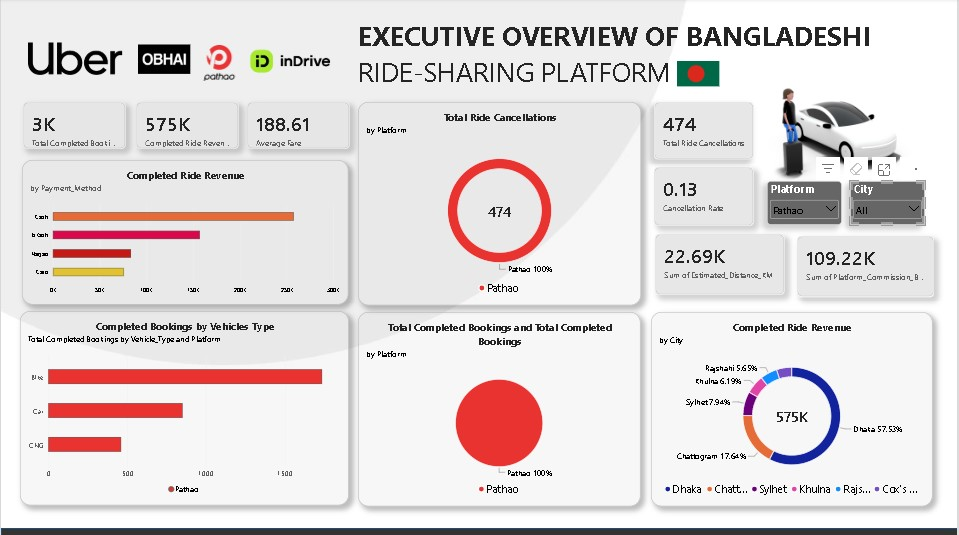

The dashboard page shown, as its layout file describes it:
{"tool":"powerbi","page":{"name":"Page 1","canvas":[1920,1080],"ordinal":0},"visuals":[{"type":"pieChart","fields":{"Category":["Rides.Platform","Calendar.Month_Name"],"Y":["KPI_Guide.Completed Bookings","KPI_Guide.Completed Bookings"]},"box":[717.5,630,566.7,390],"z":0},{"type":"donutChart","fields":{"Category":["City_Dim.City"],"Y":["KPI_Guide.Completed Ride Revenue"]},"box":[1305,630,565,390],"z":1000},{"type":"shape","box":[0,1063.3,1920,18],"z":2000},{"type":"clusteredBarChart","title":"Completed Bookings by Vehicles Type","fields":{"Category":["Rides.Vehicle_Type"],"Series":["Rides.Platform"],"Y":["KPI_Guide.Completed Bookings"]},"box":[37.5,627.5,660,390],"z":3000},{"type":"image","box":[1520,104,335,307.5],"z":4000},{"type":"image","box":[55,83.1,188.5,78.8],"z":5000},{"type":"cardVisual","fields":{"Data":["KPI_Guide.Completed Bookings"]},"box":[43.3,208.3,206.1,94.5],"z":6000,"group":"g1"},{"type":"barChart","fields":{"Category":["Rides.Payment_Method"],"Y":["KPI_Guide.Completed Ride Revenue"]},"box":[42.5,325,655,290],"z":6000},{"type":"image","box":[327.5,90,222.5,80],"z":7000},{"type":"cardVisual","fields":{"Data":["KPI_Guide.Completed Ride Revenue"]},"box":[269.8,208.3,206.1,94.5],"z":7000,"group":"g1"},{"type":"cardVisual","fields":{"Data":["KPI_Guide.Total Ride Cancellations"]},"box":[1311.7,208.3,200,115],"z":8000},{"type":"image","box":[455,70,250,112.5],"z":9000},{"type":"cardVisual","fields":{"Data":["KPI_Guide.Average Fare"]},"box":[492.2,208.8,206.1,94.5],"z":9000,"group":"g1"},{"type":"cardVisual","fields":{"Data":["Calendar.Cancellation Rate"]},"box":[1311.7,338.3,200,118.3],"z":10000},{"type":"cardVisual","fields":{"Data":["Sum(Rides.Estimated_Distance_KM)"]},"box":[1312,474,260,122],"z":11000},{"type":"image","box":[275,90,105,65],"z":12000},{"type":"cardVisual","fields":{"Data":["Sum(Rides.Platform_Commission_BDT)"]},"box":[1597,477.1,275,122.9],"z":13000},{"type":"donutChart","fields":{"Category":["Rides.Platform"],"Y":["KPI_Guide.Total Ride Cancellations"]},"box":[716.7,208.3,568.3,408.3],"z":14000},{"type":"textbox","box":[716.7,40,1156.7,146.7],"z":15000},{"type":"group","id":"g1","title":"Group 2","box":[43.3,208.3,655,95],"z":16000},{"type":"image","box":[1356.4,117.7,84.6,66.1],"z":17000},{"type":"slicer","fields":{"Values":["Rides.Platform"]},"box":[1537.5,367.5,150,87.5],"z":18000},{"type":"slicer","fields":{"Values":["City_Dim.City"]},"box":[1705,367.5,150,87.5],"z":19000}]}

Visuals, with their boxes in screenshot pixels (x1, y1, x2, y2), scaled from the page's 1920x1080 canvas onto the 959x535 screenshot:
pieChart - Rides.Platform x Calendar.Month_Name: region(358, 312, 641, 505)
donutChart - City_Dim.City x KPI_Guide.Completed Ride Revenue: region(652, 312, 934, 505)
shape: region(0, 527, 958, 534)
"Completed Bookings by Vehicles Type" clusteredBarChart: region(19, 311, 348, 504)
image: region(759, 52, 927, 204)
image: region(27, 41, 122, 80)
cardVisual - KPI_Guide.Completed Bookings: region(22, 103, 125, 150)
barChart - Rides.Payment_Method x KPI_Guide.Completed Ride Revenue: region(21, 161, 348, 305)
image: region(164, 45, 275, 84)
cardVisual - KPI_Guide.Completed Ride Revenue: region(135, 103, 238, 150)
cardVisual - KPI_Guide.Total Ride Cancellations: region(655, 103, 755, 160)
image: region(227, 35, 352, 90)
cardVisual - KPI_Guide.Average Fare: region(246, 103, 349, 150)
cardVisual - Calendar.Cancellation Rate: region(655, 168, 755, 226)
cardVisual - Sum(Rides.Estimated_Distance_KM): region(655, 235, 785, 295)
image: region(137, 45, 190, 77)
cardVisual - Sum(Rides.Platform_Commission_BDT): region(798, 236, 935, 297)
donutChart - Rides.Platform x KPI_Guide.Total Ride Cancellations: region(358, 103, 642, 305)
textbox: region(358, 20, 936, 92)
"Group 2" group: region(22, 103, 349, 150)
image: region(677, 58, 720, 91)
slicer - Rides.Platform: region(768, 182, 843, 225)
slicer - City_Dim.City: region(852, 182, 927, 225)
